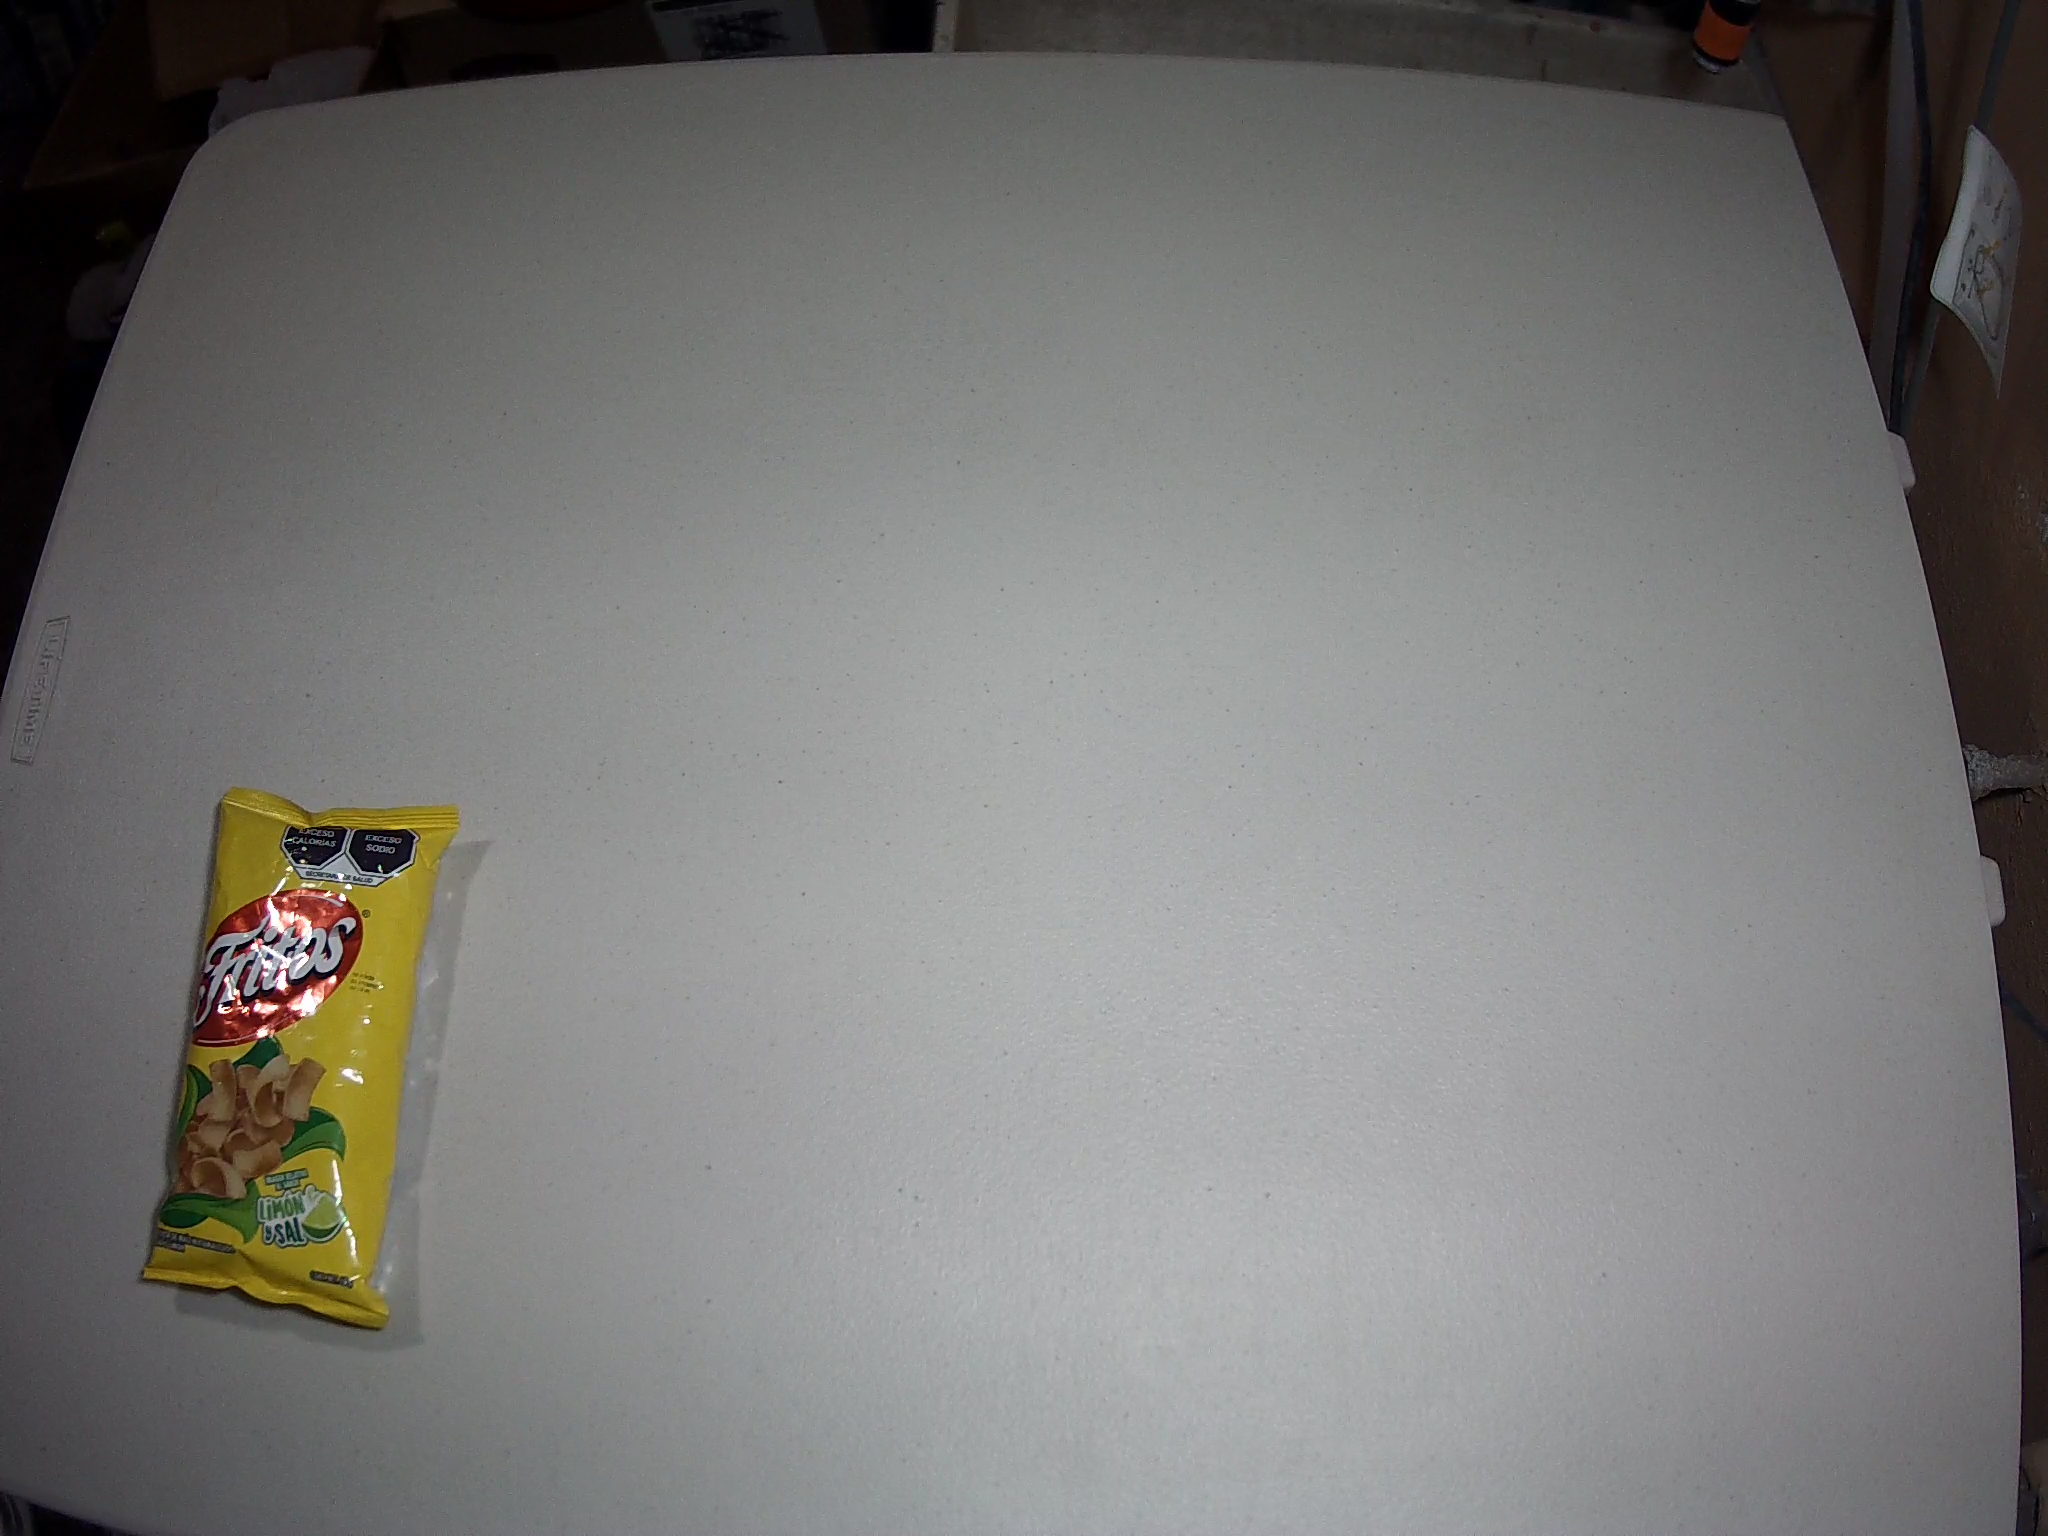FritosSalLimon_65_F: (140, 784, 463, 1333)
